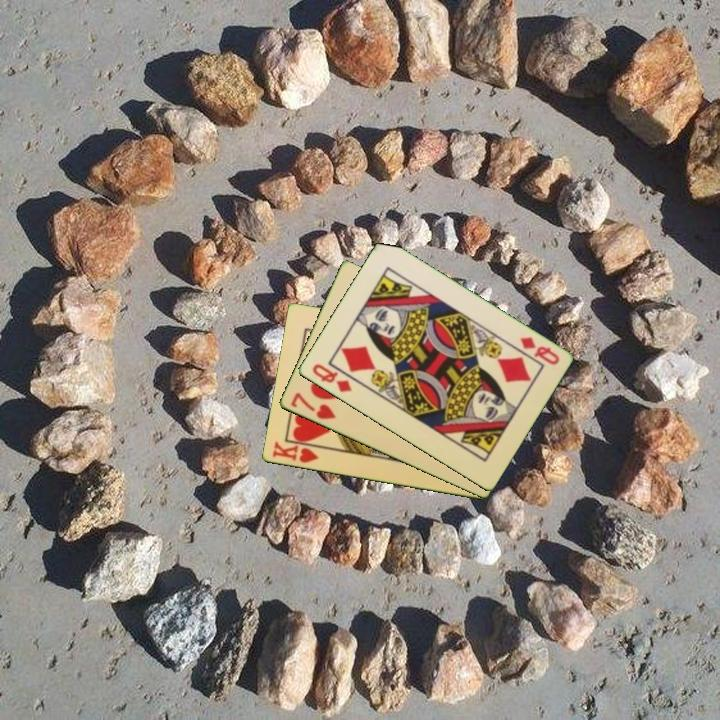7h: (287, 389, 339, 423)
Kh: (268, 438, 326, 466)
Qd: (308, 360, 355, 395), (516, 333, 562, 368)
